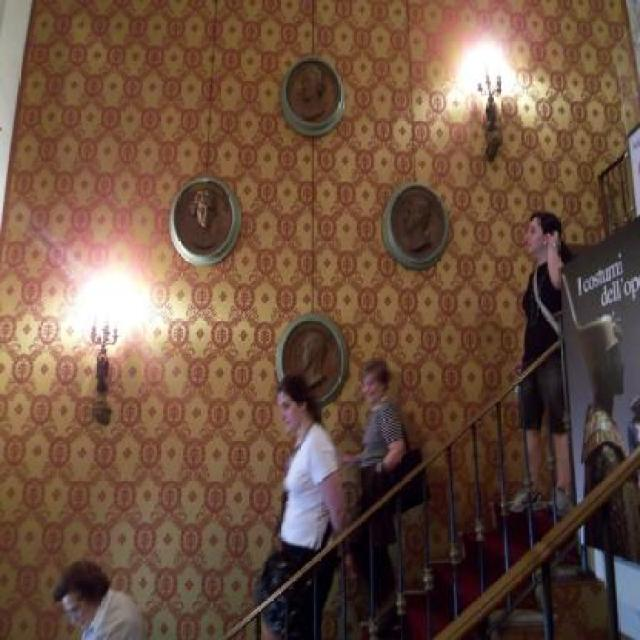stair: (361, 504, 581, 640)
